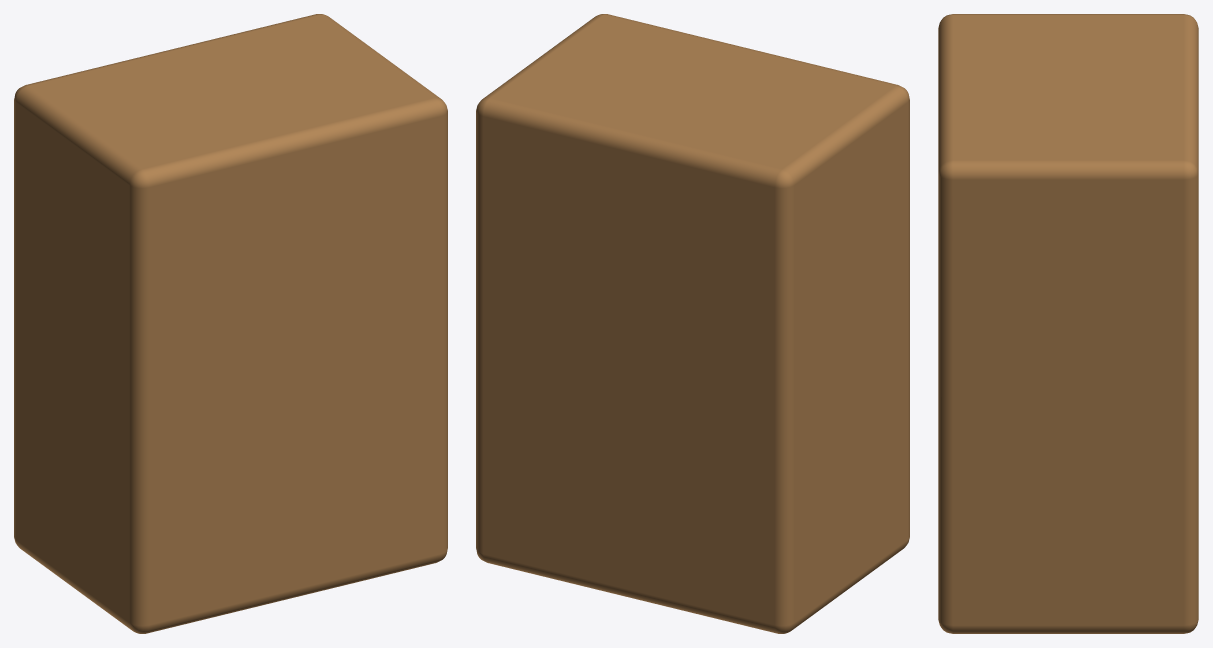
3 renders of one model, left to right at view 1: azimuth 30°, elevation 25°; view 2: azimuth 150°, elevation 25°; view 3: azimuth 270°, elevation 25°, orthographic.
Parts seen in each view (by area): view 1: chapter-3; view 2: chapter-3; view 3: chapter-3.
Part boxes in pixels (box(x1,y1,x2,y2)): chapter-3: box(14, 14, 447, 633); chapter-3: box(476, 14, 909, 633); chapter-3: box(938, 14, 1198, 633).
Size of the model in its own units: 1.43 by 2 by 1.
